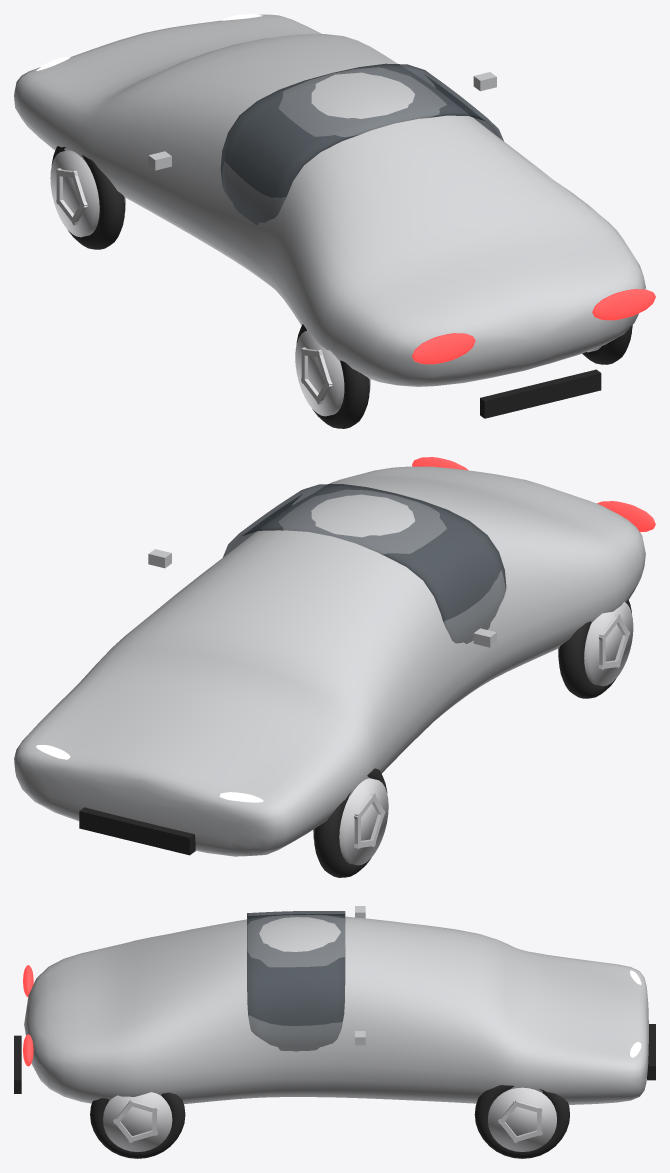
File: nissan_370z_2010.glb
The picture shows the model from 3 angles, top to bottom: view 1: azimuth 30°, elevation 25°; view 2: azimuth 150°, elevation 25°; view 3: azimuth 270°, elevation 25°; orthographic projection. The views are drawn at different scales.
Visible parts, largest first — view 1: Body, Glass, Diffuser, Rim_FR, Rim_RR, Tyre_FR, Tyre_RR, Taillight_R, Taillight_L, Tyre_RL; view 2: Body, Glass, FrontIntake, Rim_FR, Rim_RR, Tyre_FR, Tyre_RR, Taillight_R; view 3: Body, Glass, Rim_FL, Rim_RL, Tyre_FL, Tyre_RL, Diffuser, FrontIntake.
Boxes of the visible parts, <box> form: Body: <box>14,14,645,386</box>; Glass: <box>220,63,503,224</box>; Diffuser: <box>480,369,601,418</box>; Rim_FR: <box>50,150,125,237</box>; Rim_RR: <box>295,330,370,416</box>; Tyre_FR: <box>51,146,124,249</box>; Tyre_RR: <box>296,324,369,428</box>; Taillight_R: <box>412,333,475,364</box>; Taillight_L: <box>592,289,655,320</box>; Tyre_RL: <box>582,325,632,364</box>; Body: <box>14,466,645,856</box>; Glass: <box>222,484,506,643</box>; FrontIntake: <box>79,807,195,855</box>; Rim_FR: <box>313,778,388,865</box>; Rim_RR: <box>558,601,633,686</box>; Tyre_FR: <box>314,768,387,877</box>; Tyre_RR: <box>558,599,631,698</box>; Taillight_R: <box>597,501,655,532</box>; Body: <box>24,914,648,1104</box>; Glass: <box>247,911,345,1051</box>; Rim_FL: <box>488,1087,556,1151</box>; Rim_RL: <box>103,1092,172,1151</box>; Tyre_FL: <box>474,1085,569,1158</box>; Tyre_RL: <box>90,1092,185,1158</box>; Diffuser: <box>14,1035,21,1093</box>; FrontIntake: <box>647,1024,655,1080</box>.
Bounding box in the file's own units: 2.06 × 1.3 × 4.26.
